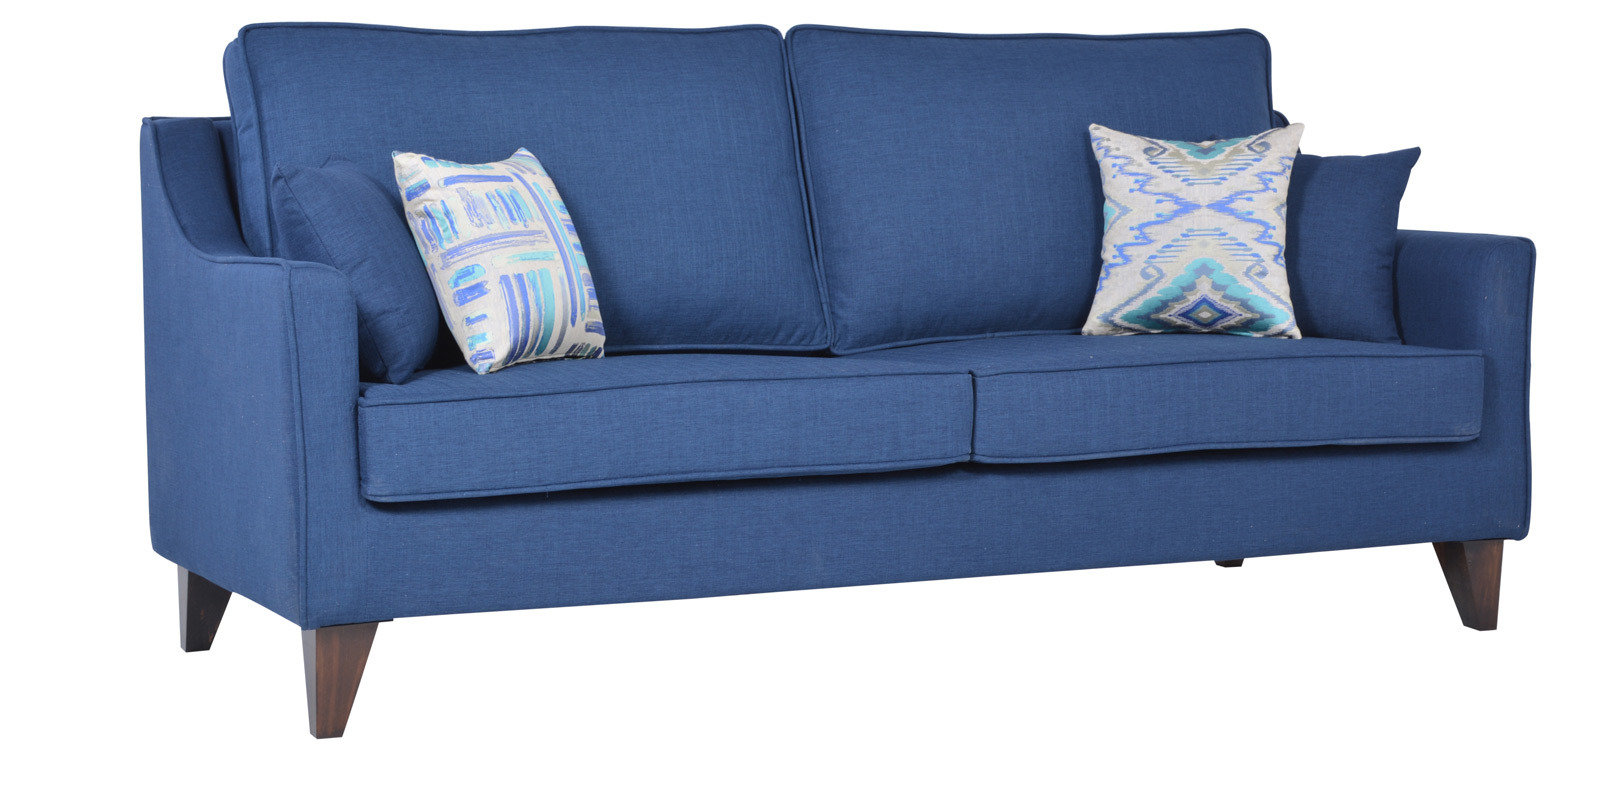Ithaca Impulse Three Seater Sofa with Throw Cushions in Teal Blue Colour by Urba: (110, 11, 1582, 748)
